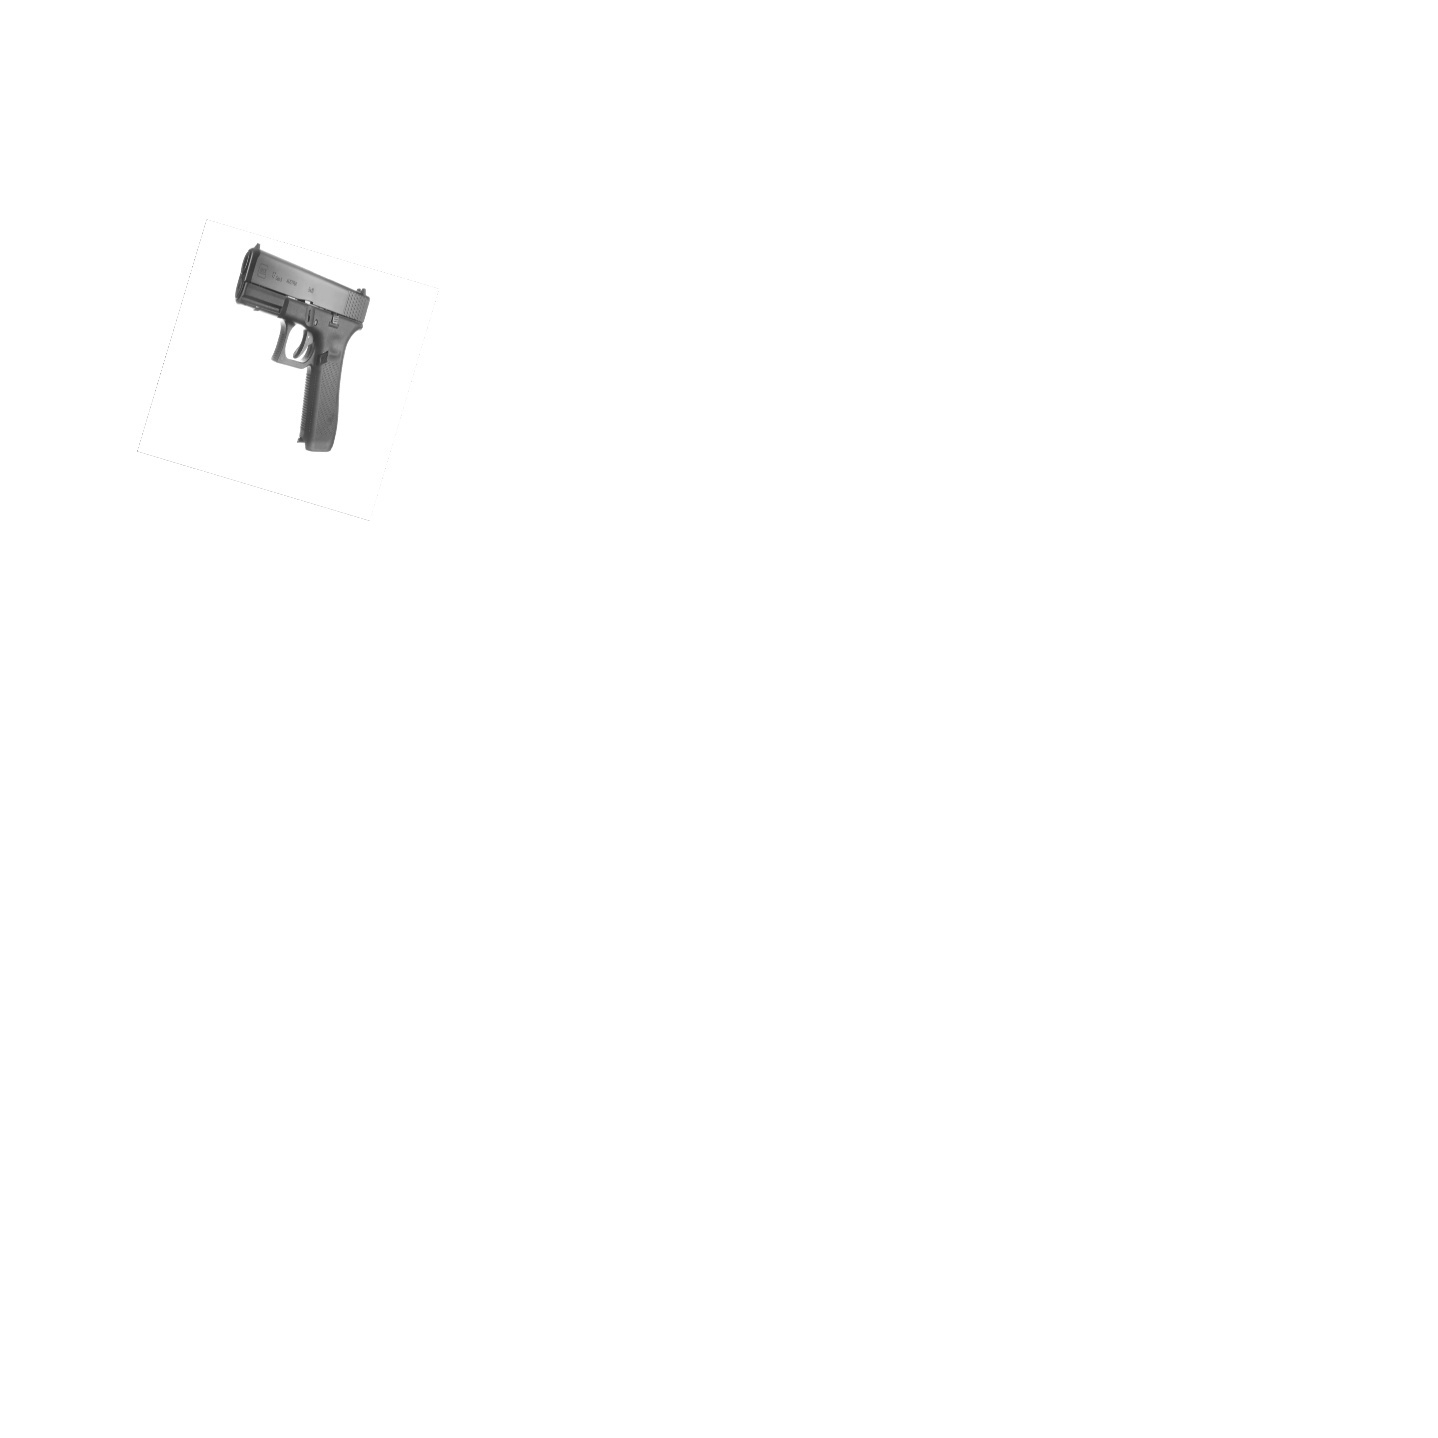gun: (230, 241, 370, 454)
